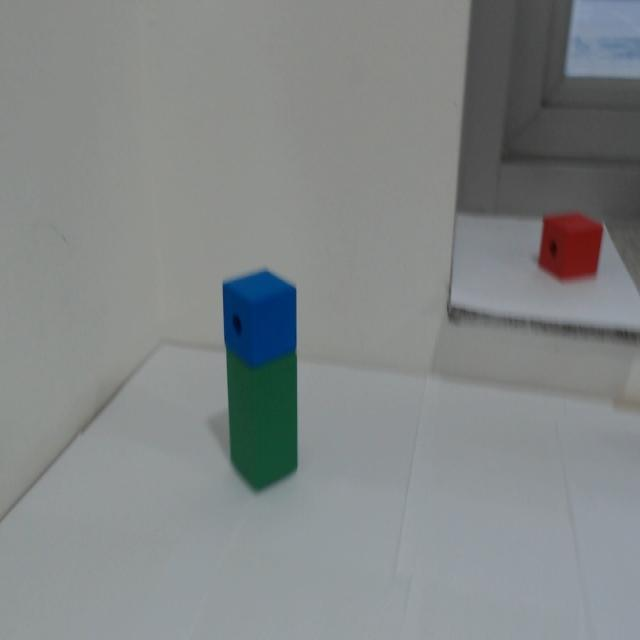cube: (202, 258, 311, 363)
